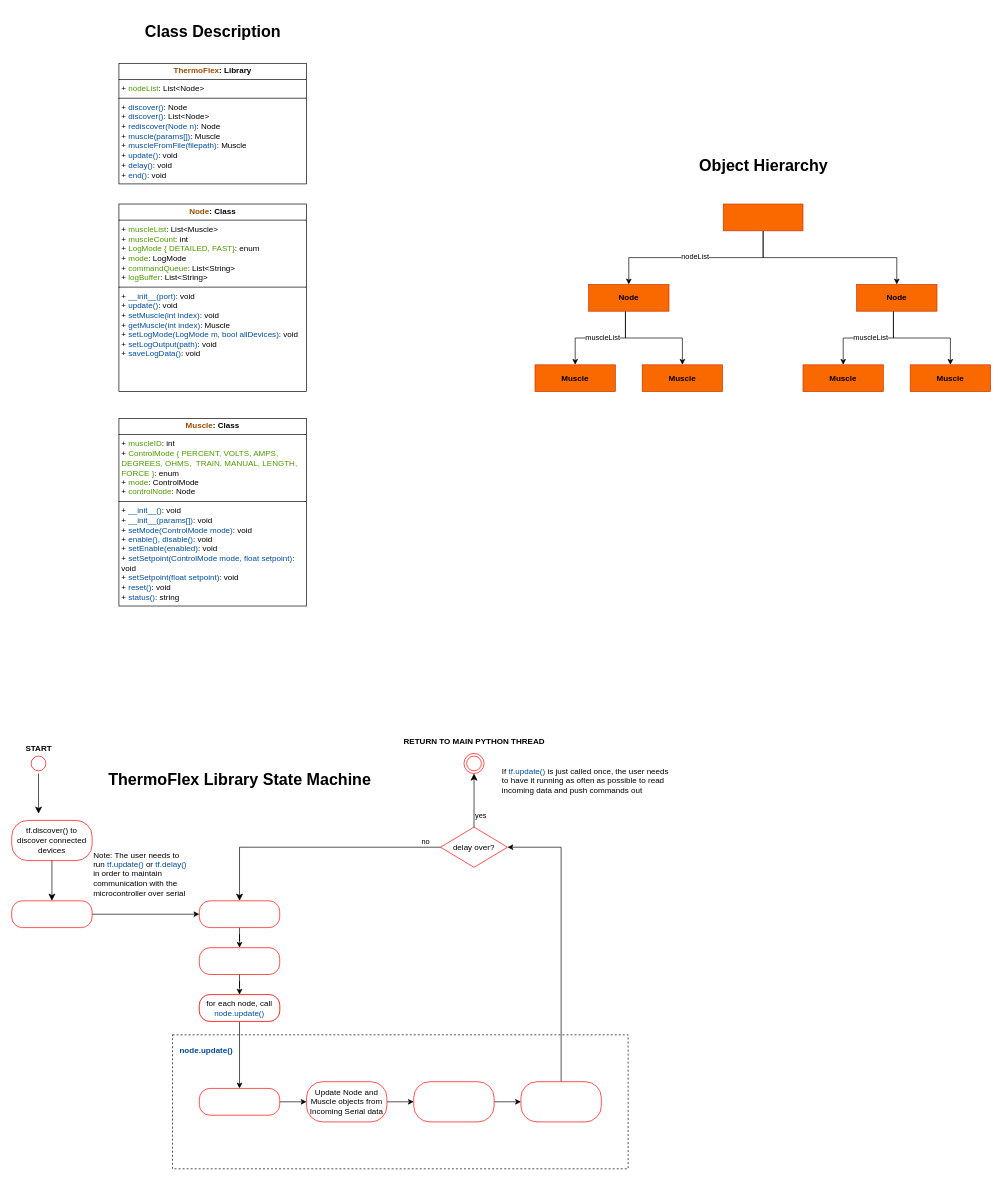
This 1002x1181 diagram has some shape labels left out. Here are the shapes that lost their labels. From the top down, the centre of each, then its label:
At point (763, 217): "ThermoFlex".
At point (51, 914): "Initialize Nodes and Muscles".
At point (239, 914): "tf.update()".
At point (239, 961): "update internal timer for tf.delay()".
At point (239, 1101): "Process incoming Serial Data".
At point (453, 1101): "Log Controller Data if logMode is set".
At point (560, 1101): "Publish commandQueue to Serial Output".
